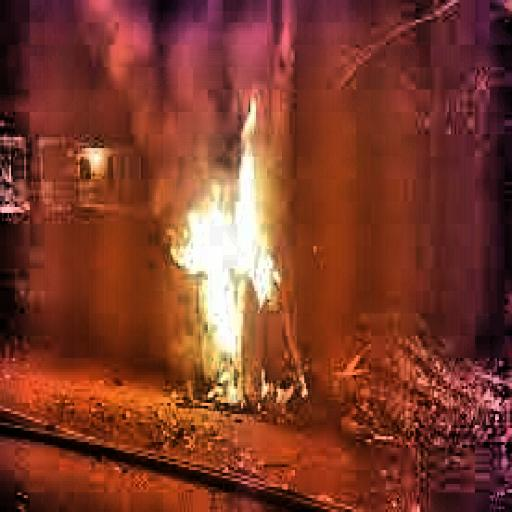fire: (163, 95, 314, 406)
